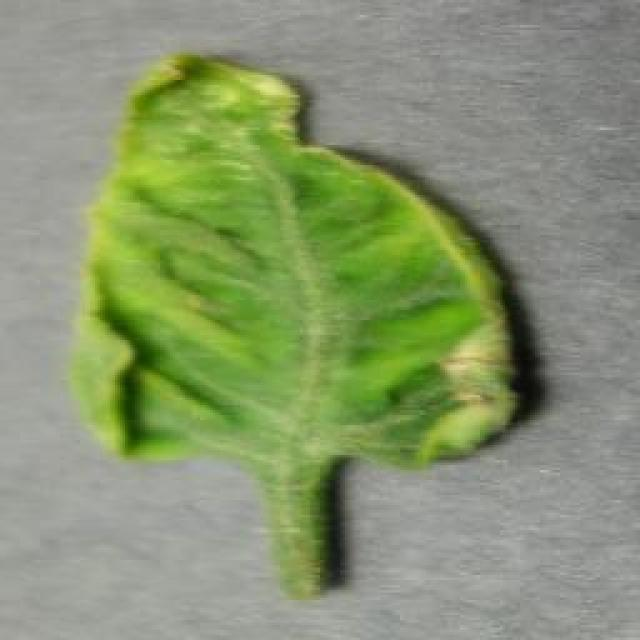Tomato yellow virus leaf: (68, 54, 520, 474)
